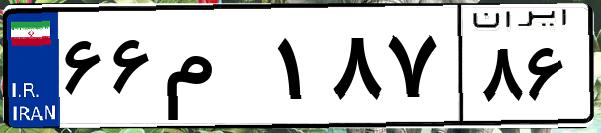1: (270, 28, 330, 110)
6: (57, 26, 110, 100), (525, 38, 570, 115), (110, 28, 158, 98)
7: (385, 28, 445, 110)
8: (330, 28, 385, 110), (475, 38, 525, 113)
م: (158, 20, 270, 120)
